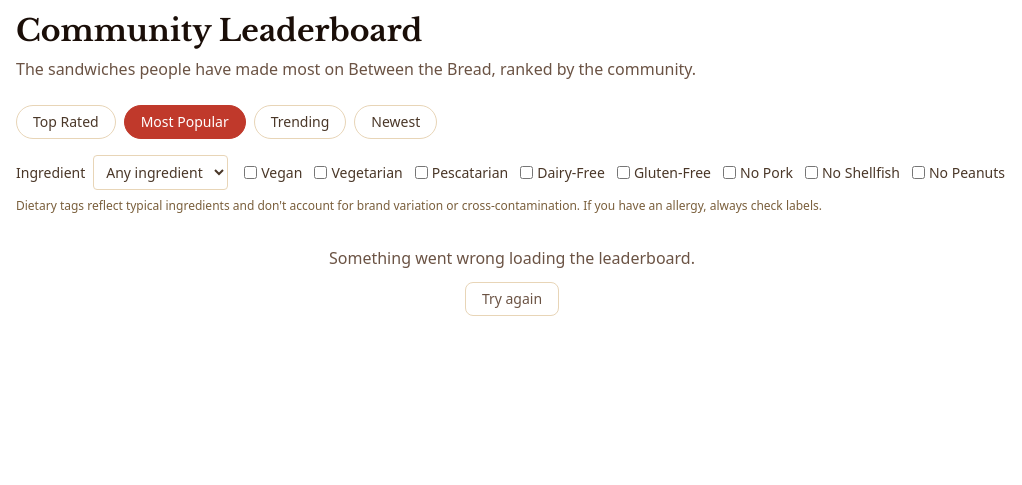
CommunityIndex paging and errors › offers to try again when the leaderboard cannot be loaded
This screenshot has width=1022, height=485.
Expected: the message shows "Something went wrong loading the leaderboard.", [329, 247, 695, 269]
Click the button "Try again" at [512, 299], box [465, 282, 559, 316]
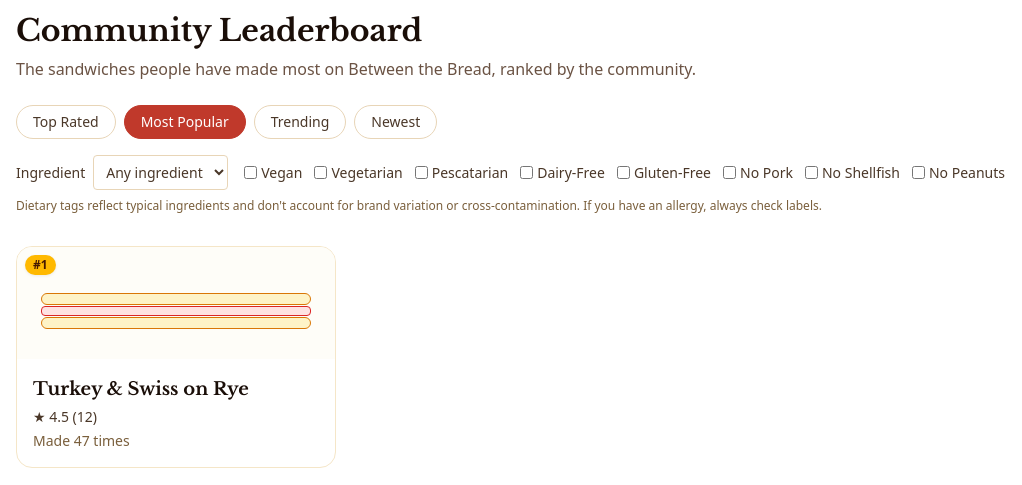
Now the heading "Turkey & Swiss on Rye" is shown, box [33, 378, 249, 400]
